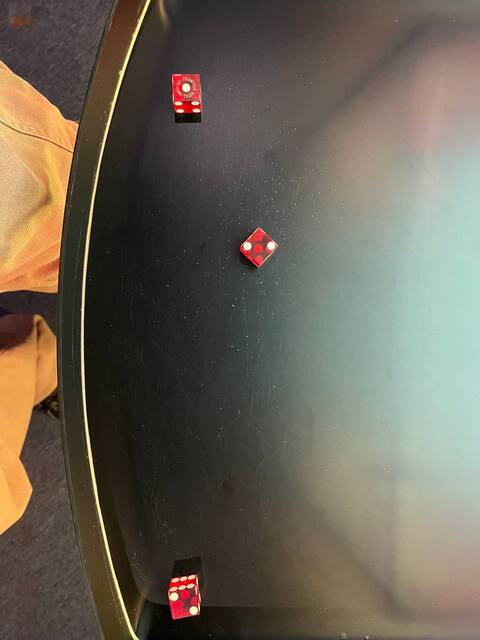one: (168, 69, 205, 104)
two: (237, 224, 281, 266), (165, 587, 202, 623)
